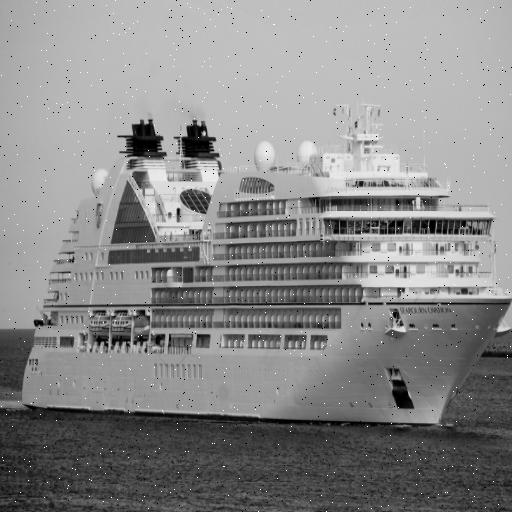cruises: (18, 105, 512, 434)
